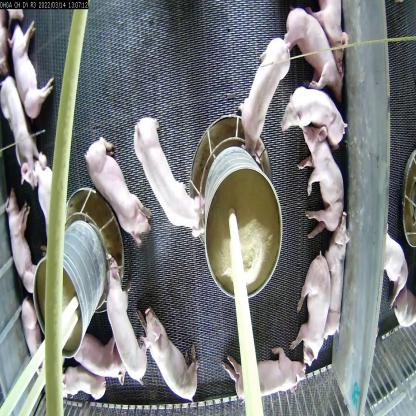Pig: (136, 107, 205, 247), (140, 298, 200, 404), (92, 261, 144, 376), (82, 140, 140, 236), (284, 3, 341, 95), (231, 346, 307, 411), (0, 63, 40, 186), (294, 127, 339, 233), (279, 75, 347, 145), (317, 211, 353, 335), (8, 23, 51, 124), (243, 40, 280, 144), (43, 344, 104, 407), (298, 252, 332, 363), (75, 330, 126, 388), (23, 148, 58, 222), (4, 198, 28, 298)
